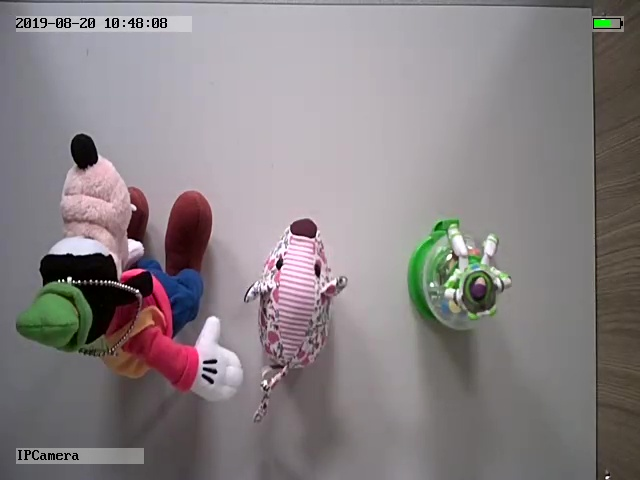buzz: (405, 215, 513, 337)
goofy: (15, 129, 244, 404)
pig: (242, 216, 351, 423)
